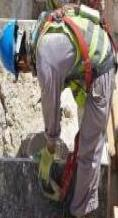boots: (0, 114, 16, 152), (1, 1, 1, 1)
gloves: (36, 137, 58, 181), (0, 13, 7, 33)
hard-hat: (0, 21, 20, 76)
ppe-suit: (0, 0, 58, 128)
